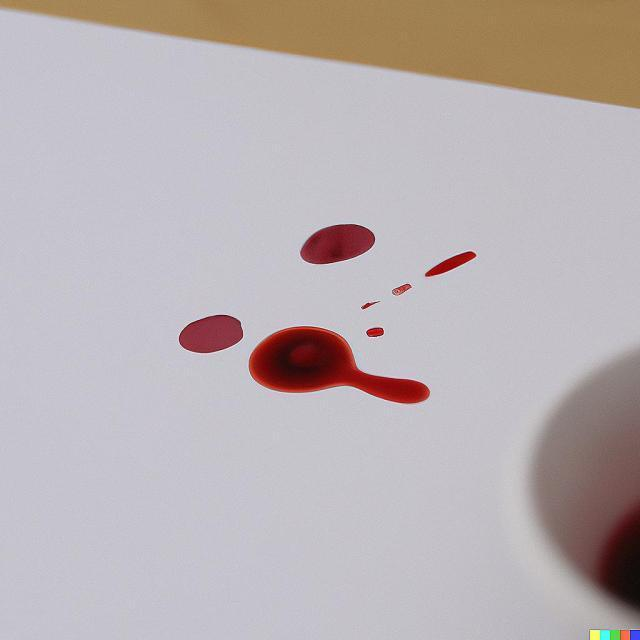flood: (160, 306, 434, 402), (288, 219, 387, 265)
